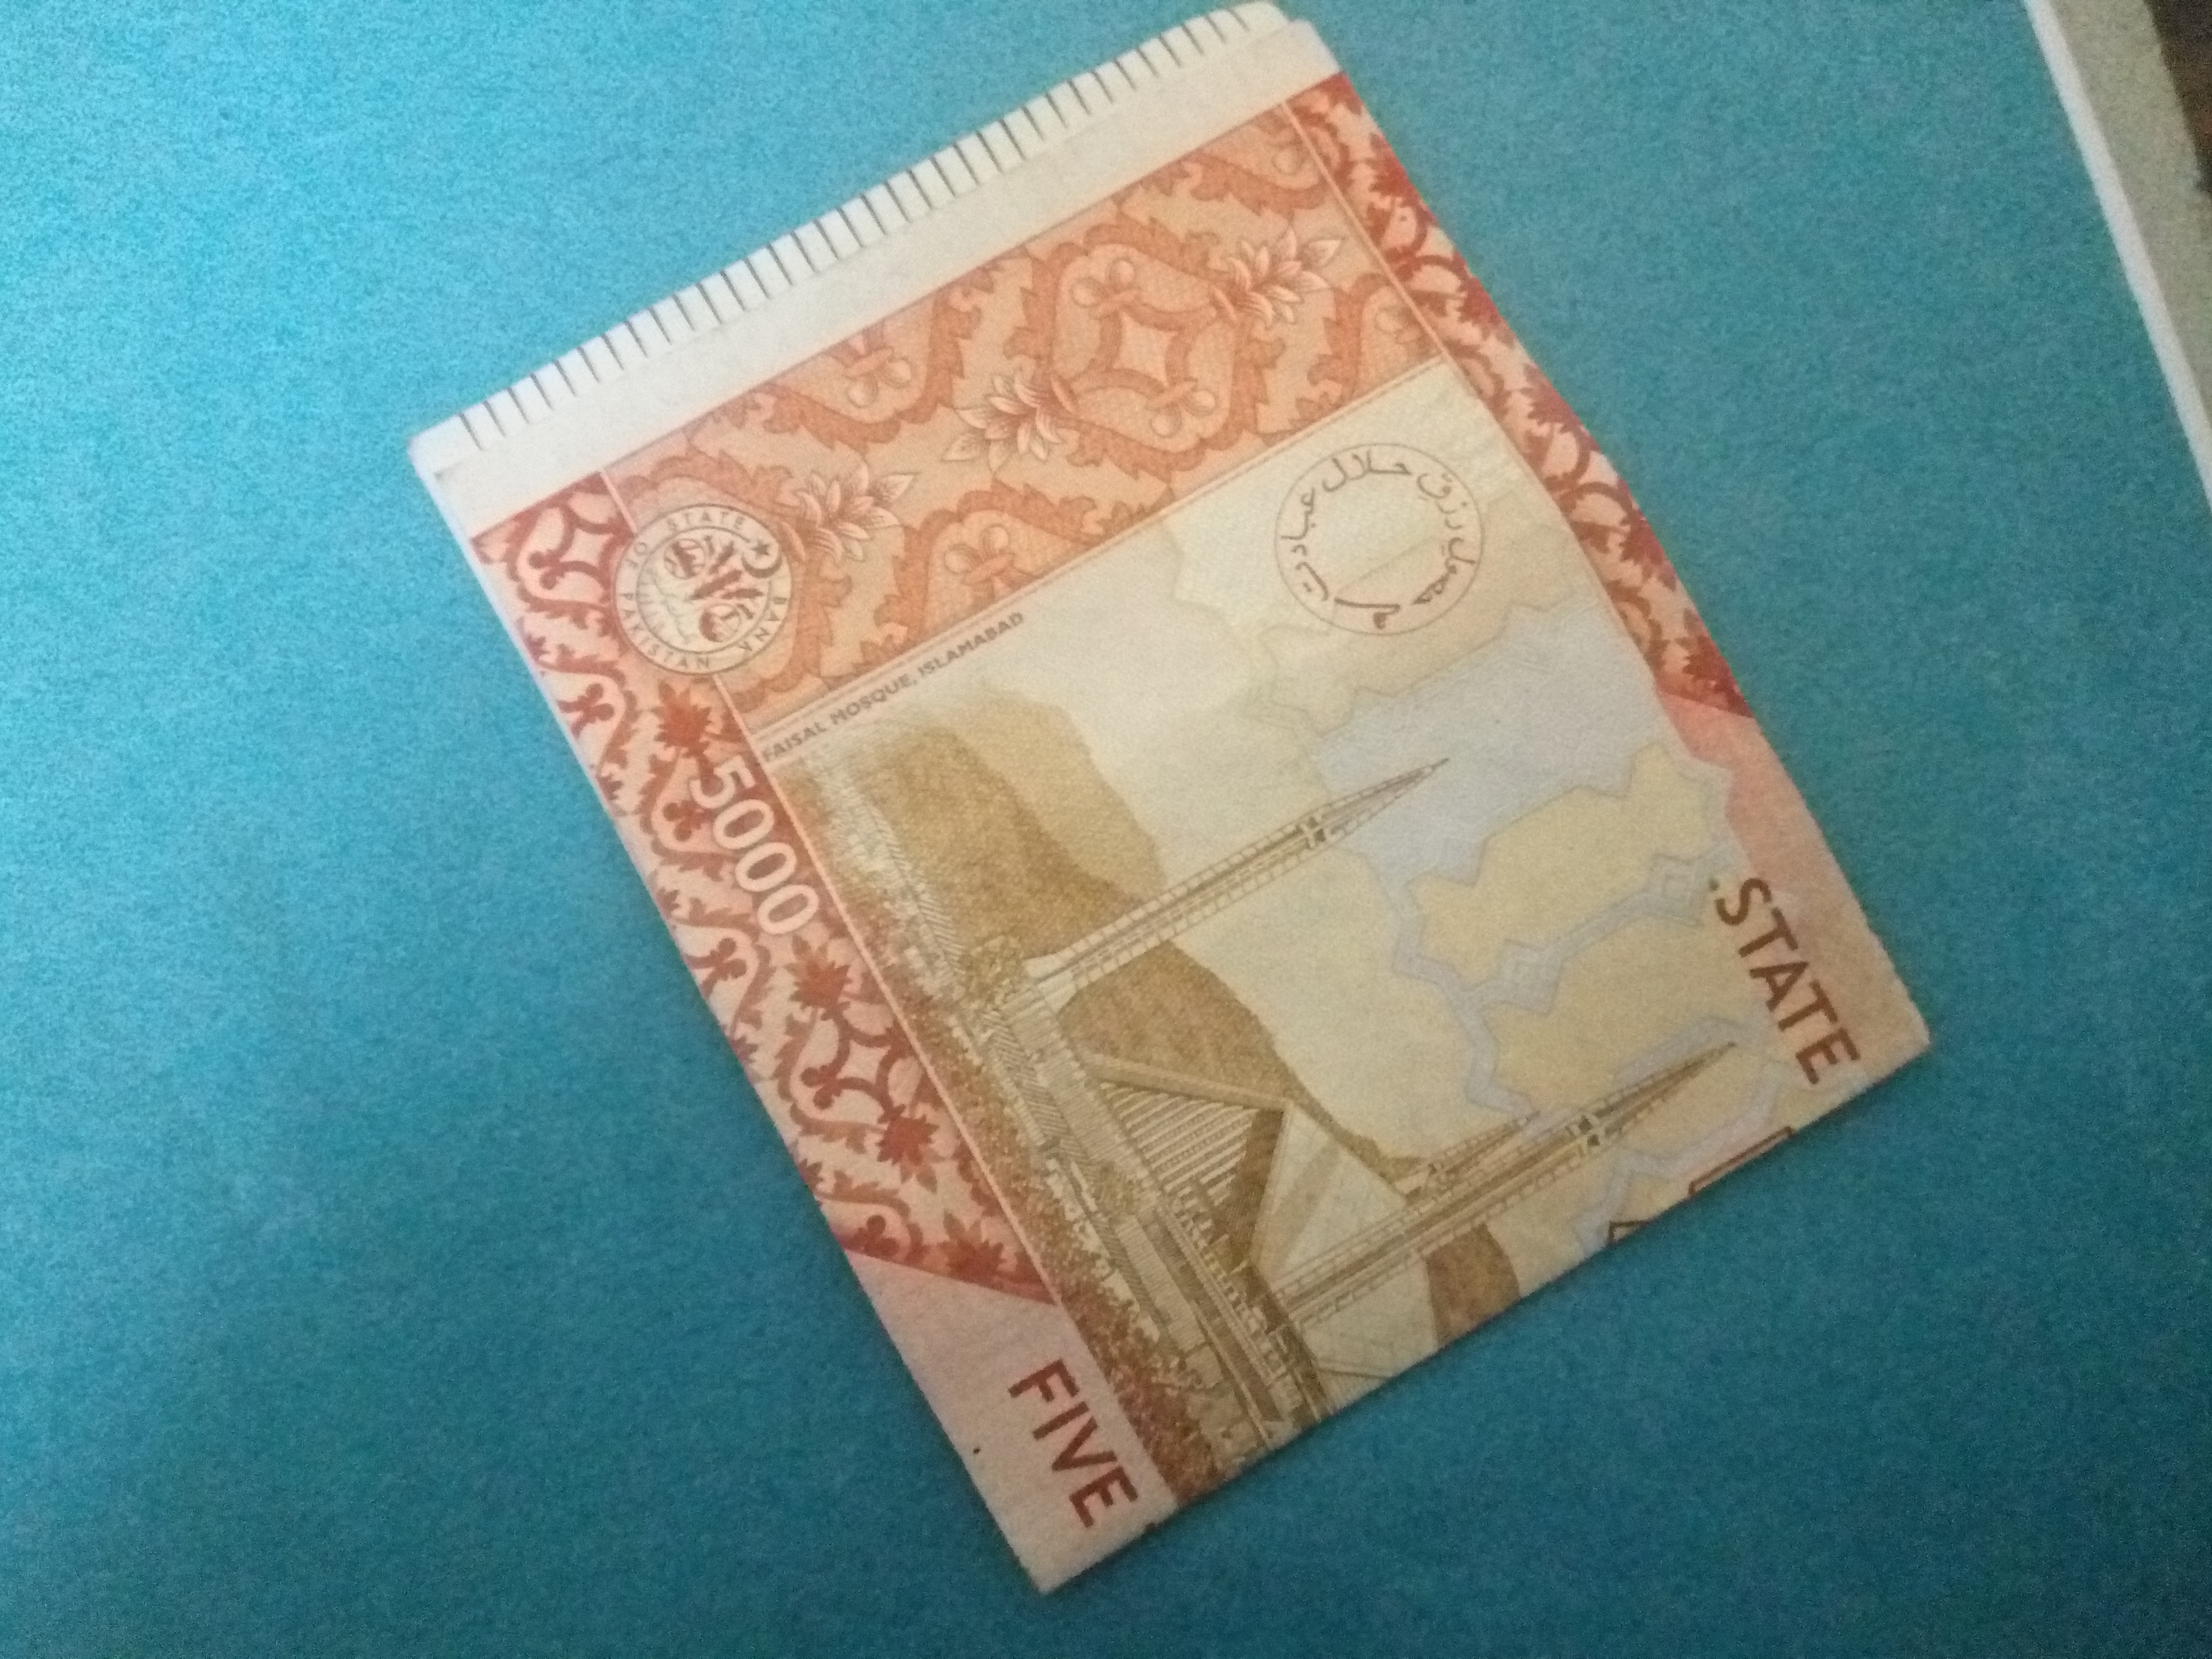5000 rupee: (340, 17, 1982, 1645)
